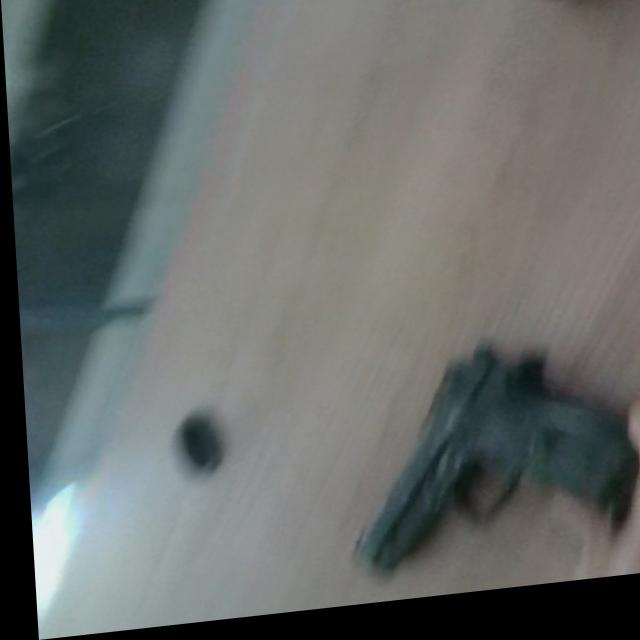handgun: (317, 317, 640, 614)
